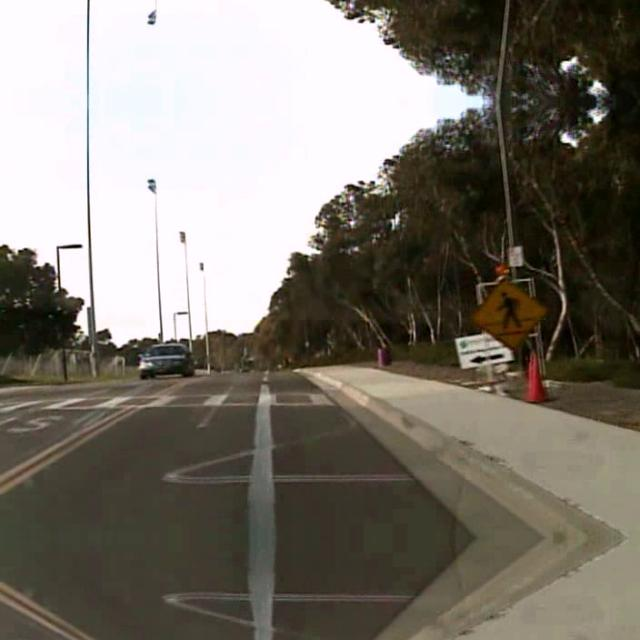pedestrianCrossing: (468, 276, 546, 348)
